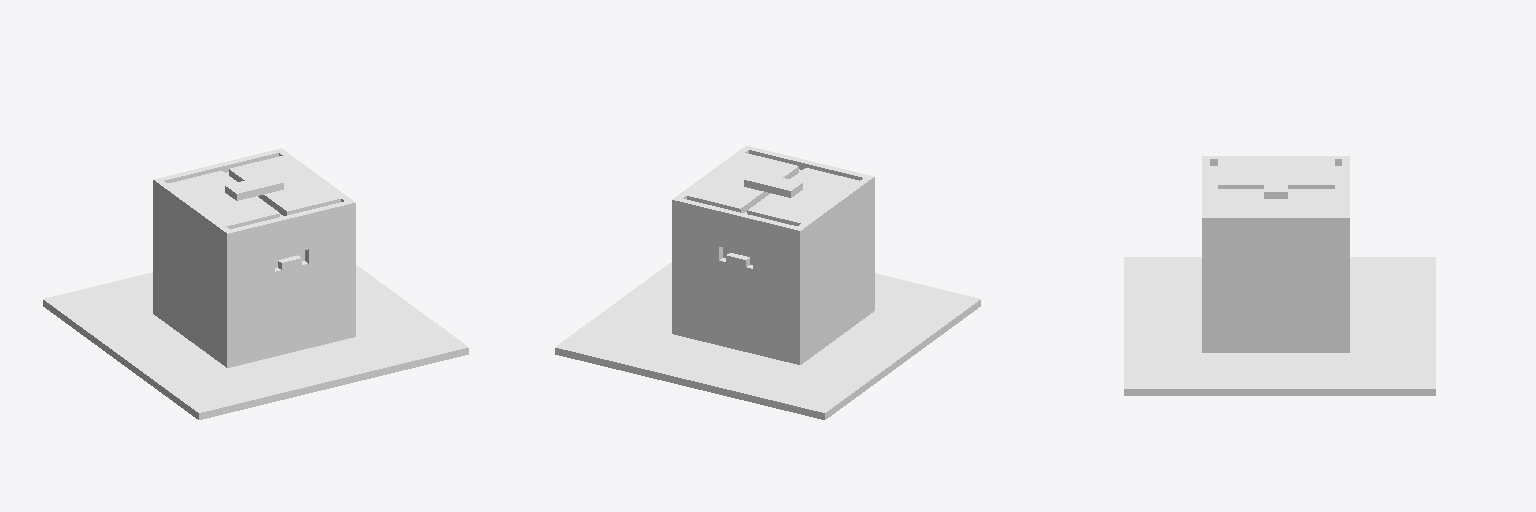
The model's file is Box_Big_1.obj.
The picture shows the model from 3 angles: view 1: azimuth 30°, elevation 25°; view 2: azimuth 150°, elevation 25°; view 3: azimuth 270°, elevation 25°; orthographic projection.
Bounding box in the file's own units: 40 × 21 × 40.